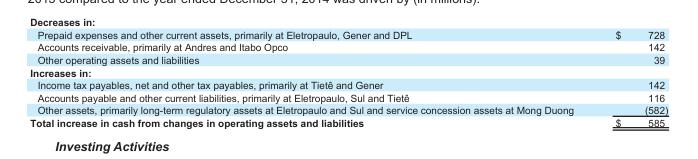table: (29, 28, 667, 127)
table column: (29, 28, 593, 127), (593, 28, 667, 127)
table projected row header: (29, 65, 667, 78)
table row: (29, 40, 667, 53), (29, 65, 667, 78), (29, 90, 667, 103), (29, 28, 667, 40), (29, 53, 667, 65), (29, 78, 667, 90), (29, 103, 667, 115), (29, 115, 667, 127)
